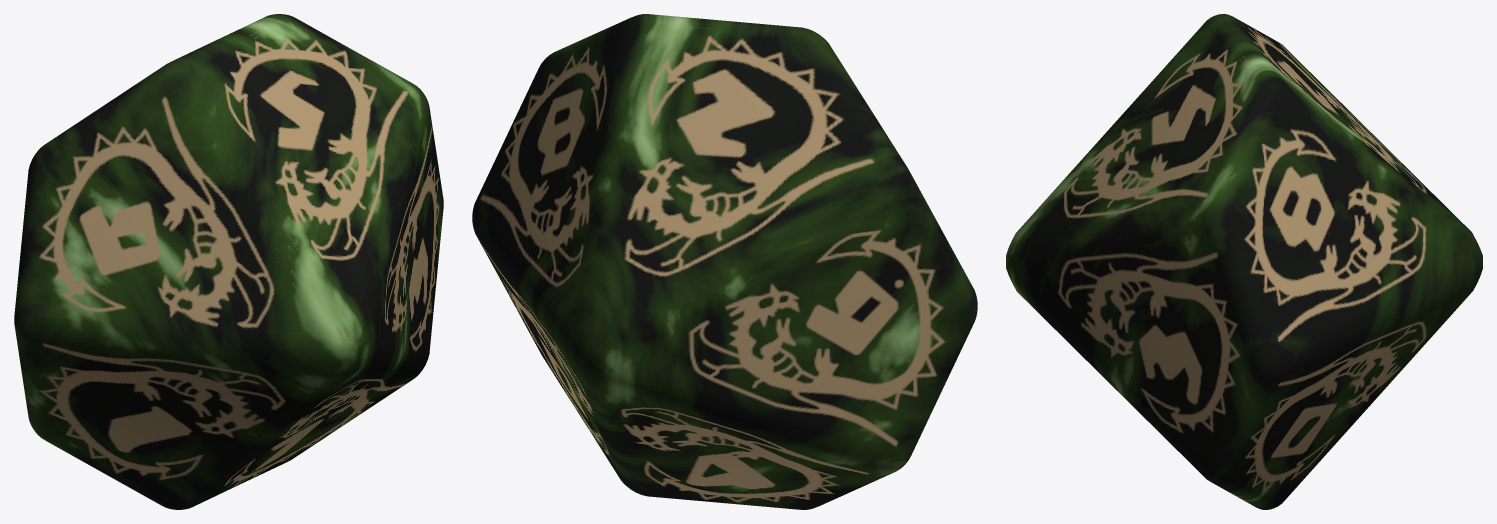
File: d10_dragons_SDRA98.glb
3 renders of one model, left to right at view 1: azimuth 30°, elevation 25°; view 2: azimuth 150°, elevation 25°; view 3: azimuth 270°, elevation 25°, orthographic. The views are drawn at different scales.
Visible parts, largest first — view 1: K10_obla_noweUV.001; view 2: K10_obla_noweUV.001; view 3: K10_obla_noweUV.001.
Boxes of the visible parts, left/top/right/bottom form: K10_obla_noweUV.001: left=14, top=14, right=443, bottom=509; K10_obla_noweUV.001: left=472, top=14, right=977, bottom=509; K10_obla_noweUV.001: left=1006, top=14, right=1482, bottom=509.
Bounding box in the file's own units: 169 × 161 × 161.
1 material, 1 textured.
